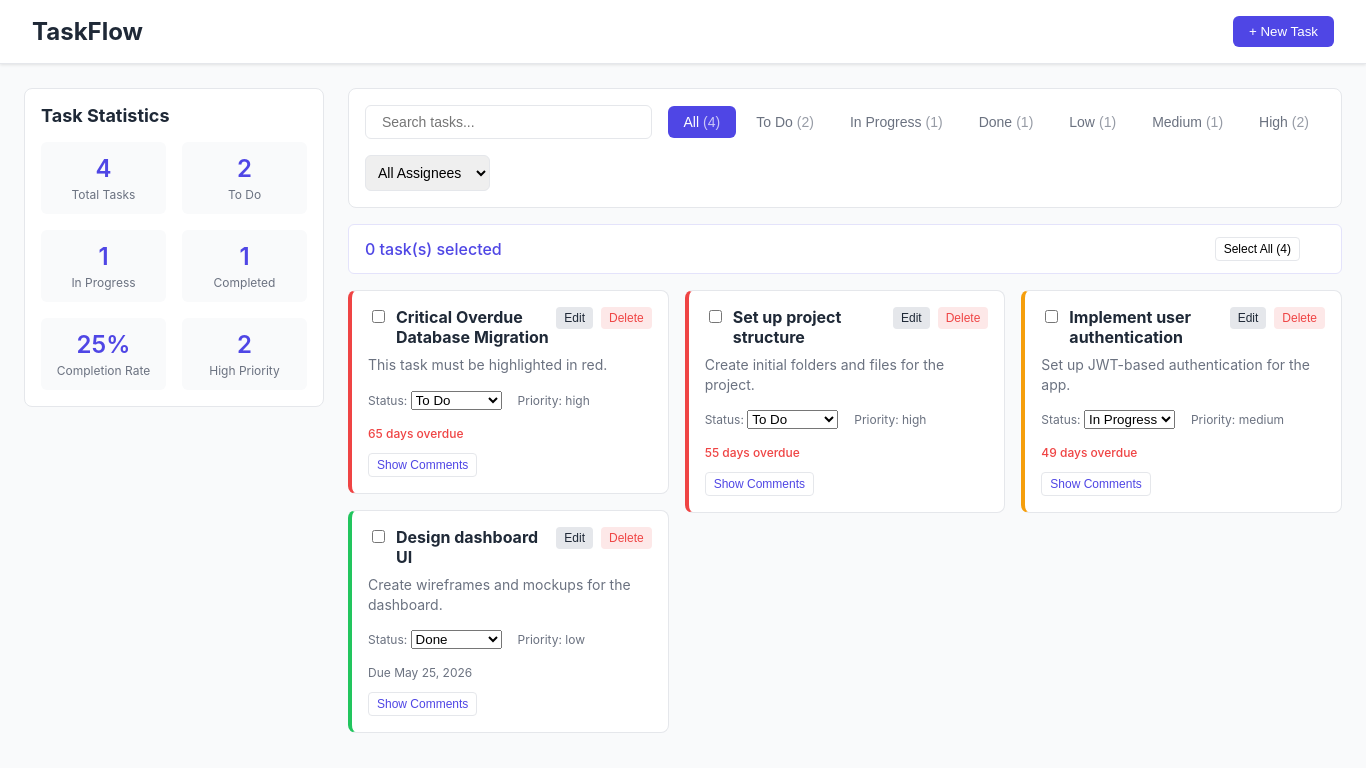
it: TaskFlow Application › Task Creation › should show validation error for empty title
The width and height of the screenshot is (1366, 768).
Step 1. Click the button with test id "create-task-button" → (1284, 32), box [1233,16,1334,47]
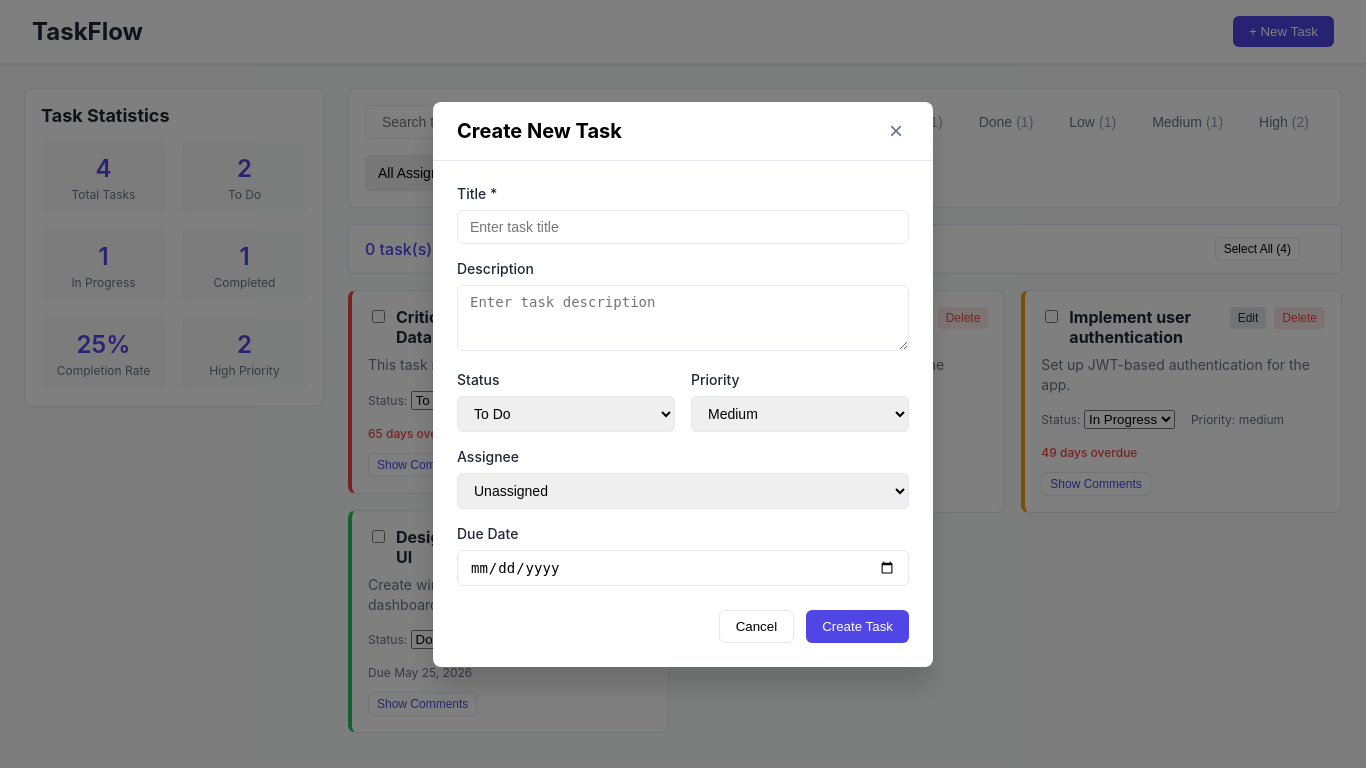
Result: the dialog with test id "task-form-modal" is shown
Step 2. Click the button with test id "form-submit-button" → (858, 627), box [806,610,909,643]
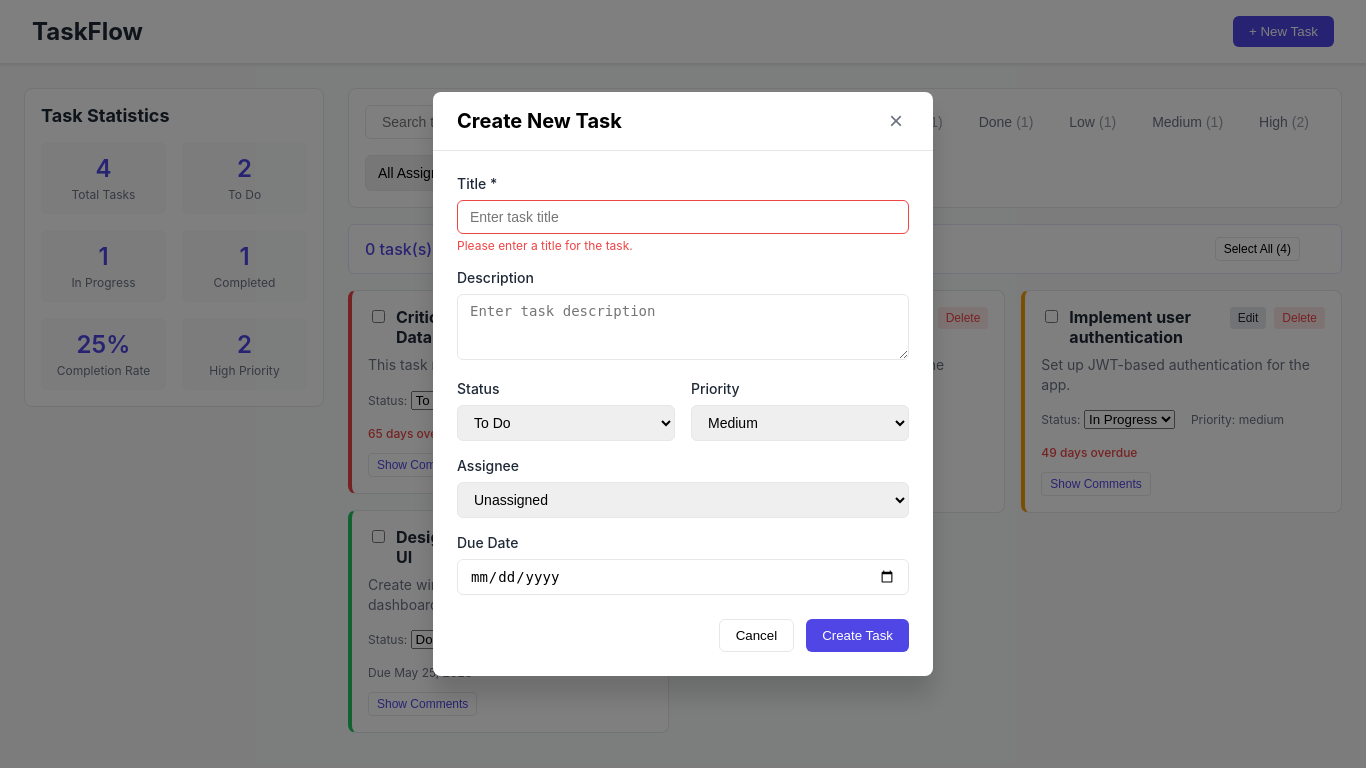
Result: the text "Please enter a title for the task." is shown at [457,238,633,253]
Step 3. Type "New title" into the field with test id "form-title-input" → (683, 217), box [457,200,909,234]
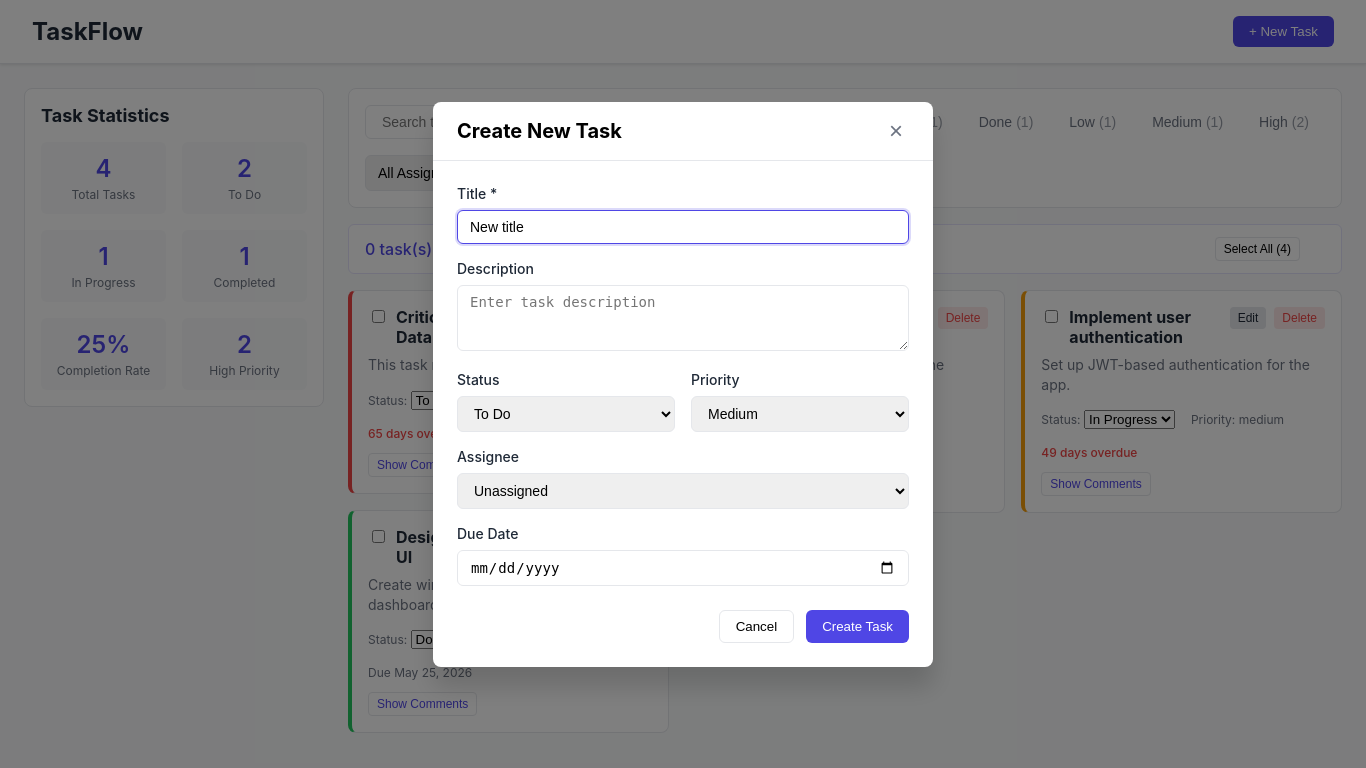
Result: the text "Please enter a title for the task." is gone
